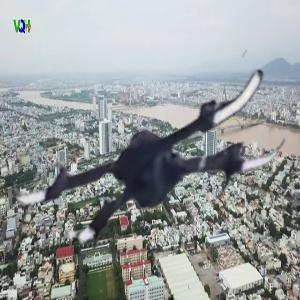drone: (12, 6, 283, 277)
